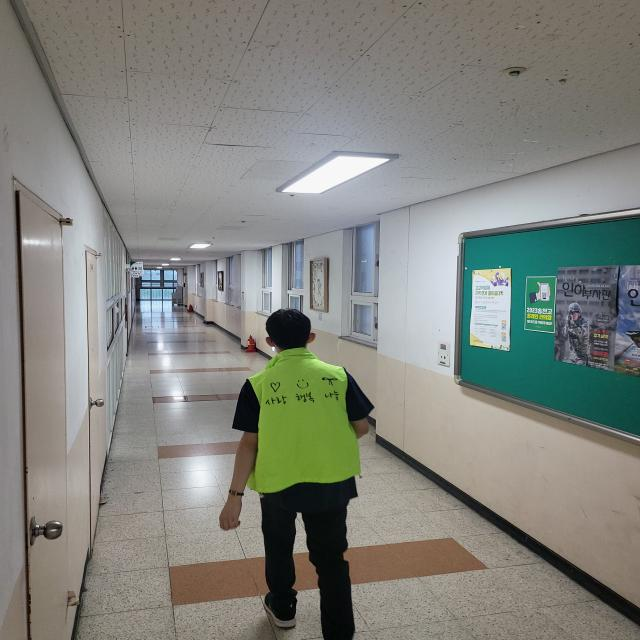weston_spy: (216, 344, 387, 501)
